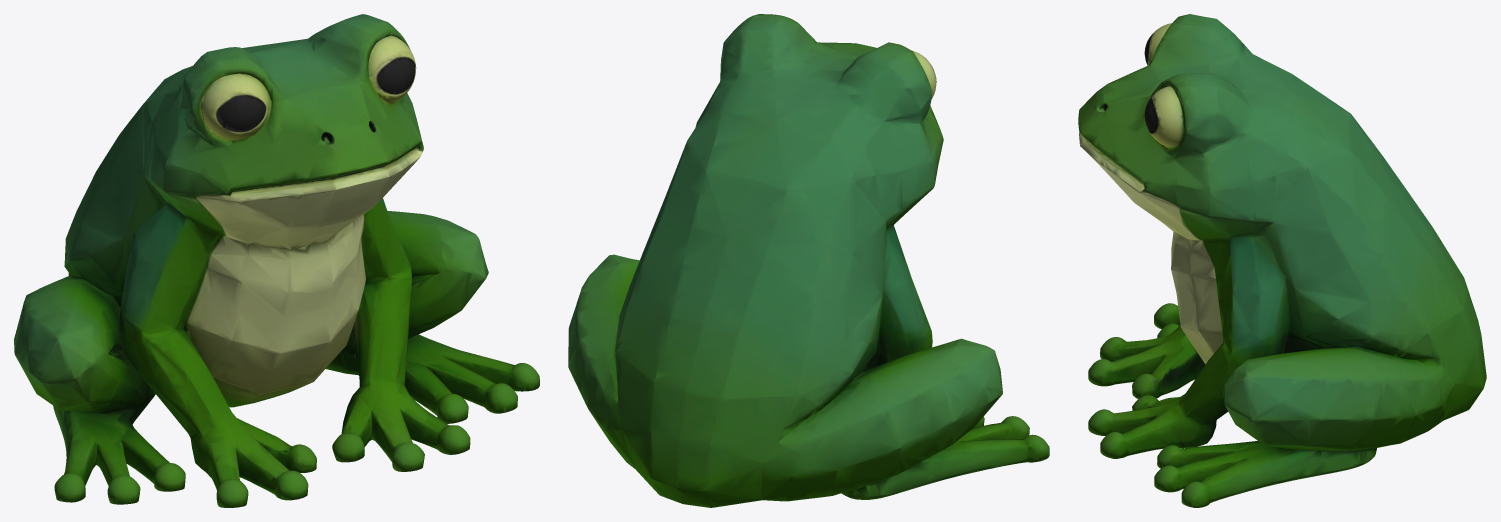
The model's file is frog.glb.
3 renders of one model, left to right at view 1: azimuth 30°, elevation 25°; view 2: azimuth 150°, elevation 25°; view 3: azimuth 270°, elevation 25°, orthographic. The views are drawn at different scales.
Parts seen in each view (by area): view 1: node_0; view 2: node_0; view 3: node_0.
Boxes of the visible parts, bbox=[...] form: node_0: bbox=[14, 14, 539, 507]; node_0: bbox=[568, 14, 1049, 507]; node_0: bbox=[1078, 14, 1486, 507].
Bounding box in the file's own units: 0.902 × 0.7264 × 0.7529.
Materials: 1 (1 with a texture image).
